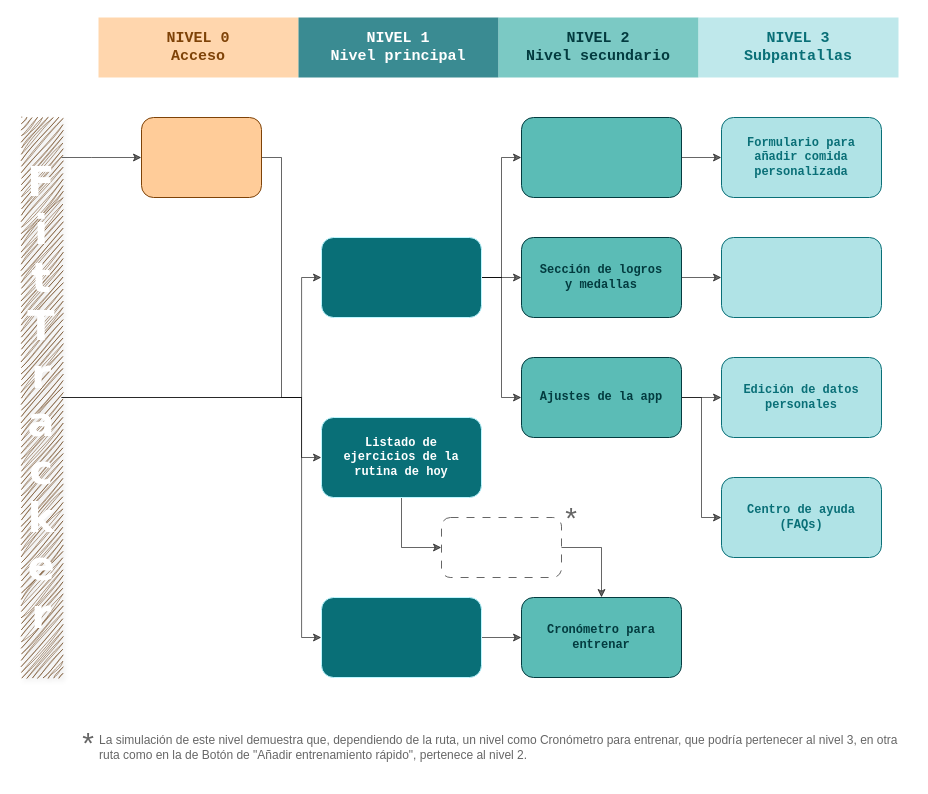
The diagram is 928 pixels wide and 794 high, and some of its shapes have lost their labels. Each missing label, with the centre of its shape:
Botón de "Añadir entrenamiento rápido": pixel 401 637
Botón de Inicio de sesión/registro: pixel 201 157
Buscador global de recetas: pixel 601 157
Detalle de ejercicio seleccionado: pixel 501 547
Gráfica de evolución semanal: pixel 801 277
Panel de control principal (Daskboard): pixel 401 277
